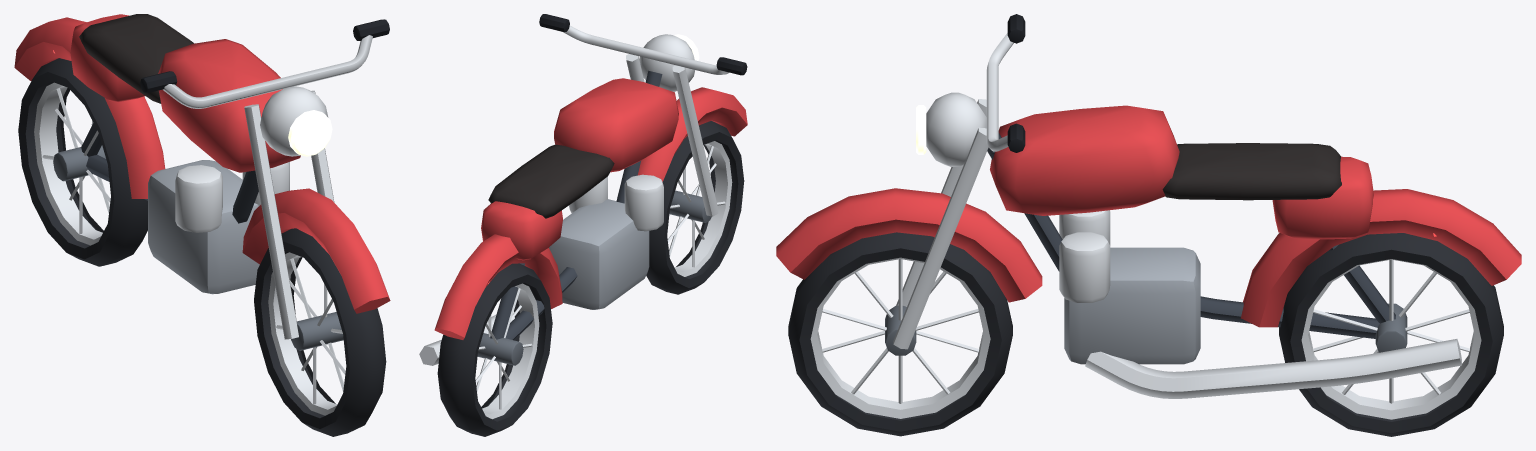
The model's file is moto_vermelha.glb.
3 views of the same model, side by side, from view 1: azimuth 30°, elevation 25°; view 2: azimuth 150°, elevation 25°; view 3: azimuth 270°, elevation 25° (orthographic). The views are drawn at different scales.
Visible parts, largest first — view 1: moto_vermelha, roda_traseira, roda_dianteira; view 2: moto_vermelha, roda_traseira, roda_dianteira; view 3: moto_vermelha, roda_dianteira, roda_traseira.
Part boxes in pixels (left/top/right/bottom): moto_vermelha: left=14, top=14, right=390, bottom=339; roda_traseira: left=18, top=58, right=147, bottom=266; roda_dianteira: left=254, top=228, right=386, bottom=436; moto_vermelha: left=419, top=14, right=747, bottom=365; roda_traseira: left=437, top=263, right=552, bottom=436; roda_dianteira: left=646, top=121, right=744, bottom=294; moto_vermelha: left=776, top=14, right=1521, bottom=398; roda_dianteira: left=788, top=232, right=1012, bottom=436; roda_traseira: left=1279, top=233, right=1503, bottom=436.
Bounding box in the file's own units: 0.87 × 1.16 × 2.19.
Materials: 3 (1 with a texture image).
